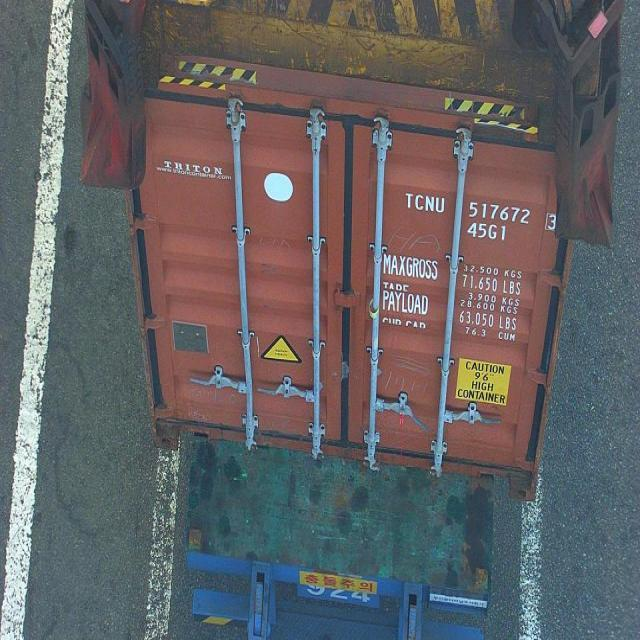ISO: (469, 224, 507, 244)
container_number: (406, 190, 559, 230)
